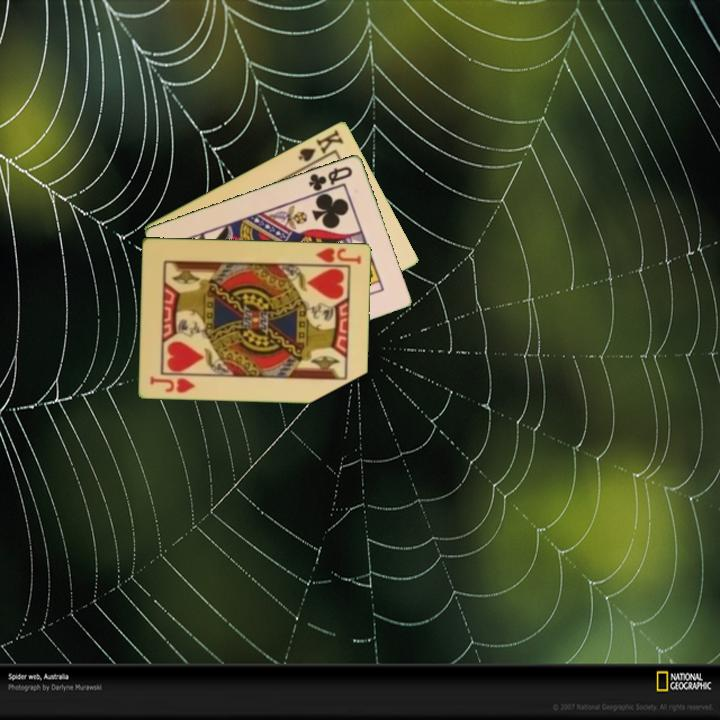Jh: (147, 372, 198, 395), (312, 244, 364, 266)
Ks: (295, 125, 346, 170)
Qc: (305, 162, 355, 194)
